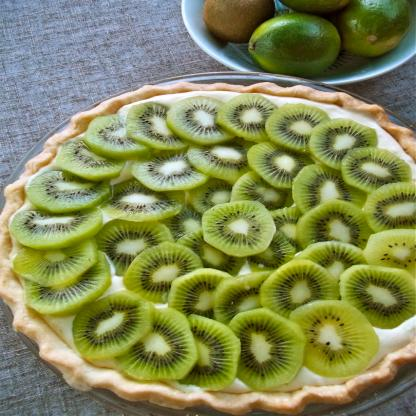--: (283, 297, 382, 374), (110, 304, 202, 385), (228, 306, 310, 389), (68, 292, 158, 360), (175, 309, 244, 396), (86, 213, 178, 275), (334, 262, 416, 327), (196, 198, 282, 258), (292, 163, 377, 220), (122, 242, 202, 300), (258, 257, 342, 312), (293, 199, 375, 255), (93, 179, 188, 224), (167, 96, 244, 148), (16, 206, 114, 246), (126, 149, 214, 193), (167, 268, 233, 323), (124, 102, 193, 151), (343, 146, 409, 196), (264, 106, 332, 152), (307, 119, 375, 164), (220, 96, 287, 140), (188, 142, 258, 184)
